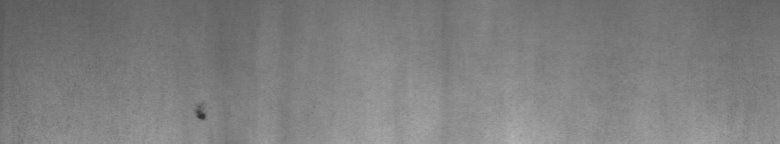fi: (189, 101, 212, 128)
